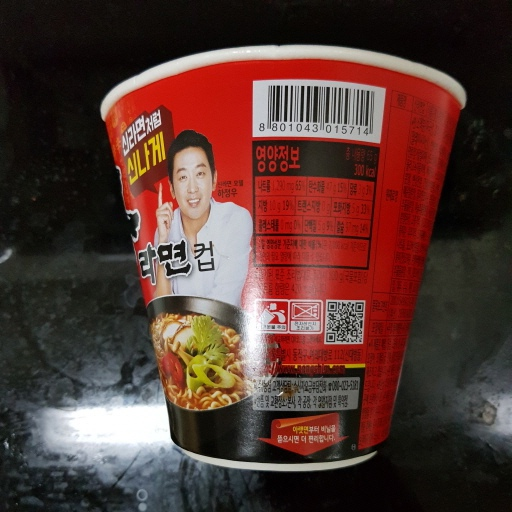Paper_1: (88, 45, 468, 476)
